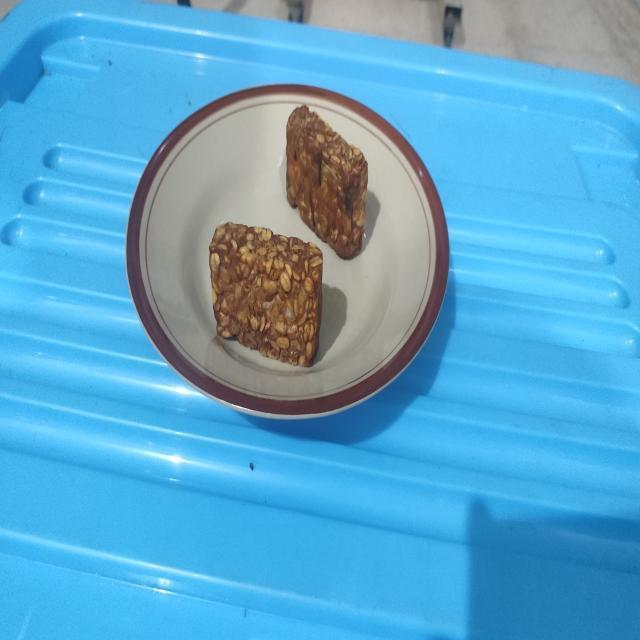tempe_goreng: (209, 222, 323, 366), (286, 105, 368, 258)
